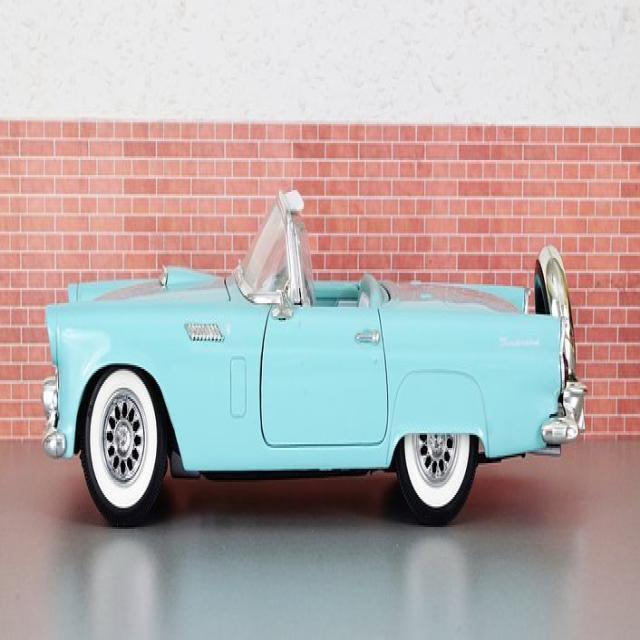Car: (41, 186, 587, 529)
